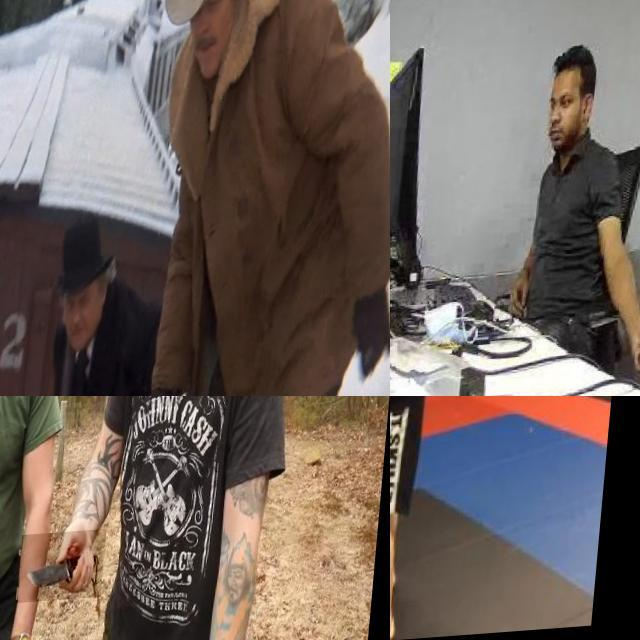-: (26, 534, 114, 608), (390, 427, 416, 509)
